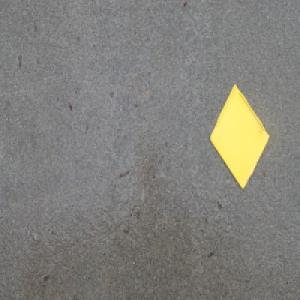PlasticPart: (208, 82, 270, 190)
